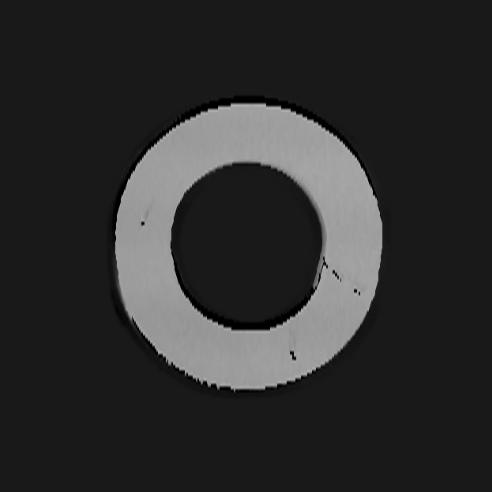defect: (323, 257, 362, 298), (135, 203, 151, 235), (289, 329, 297, 363)
